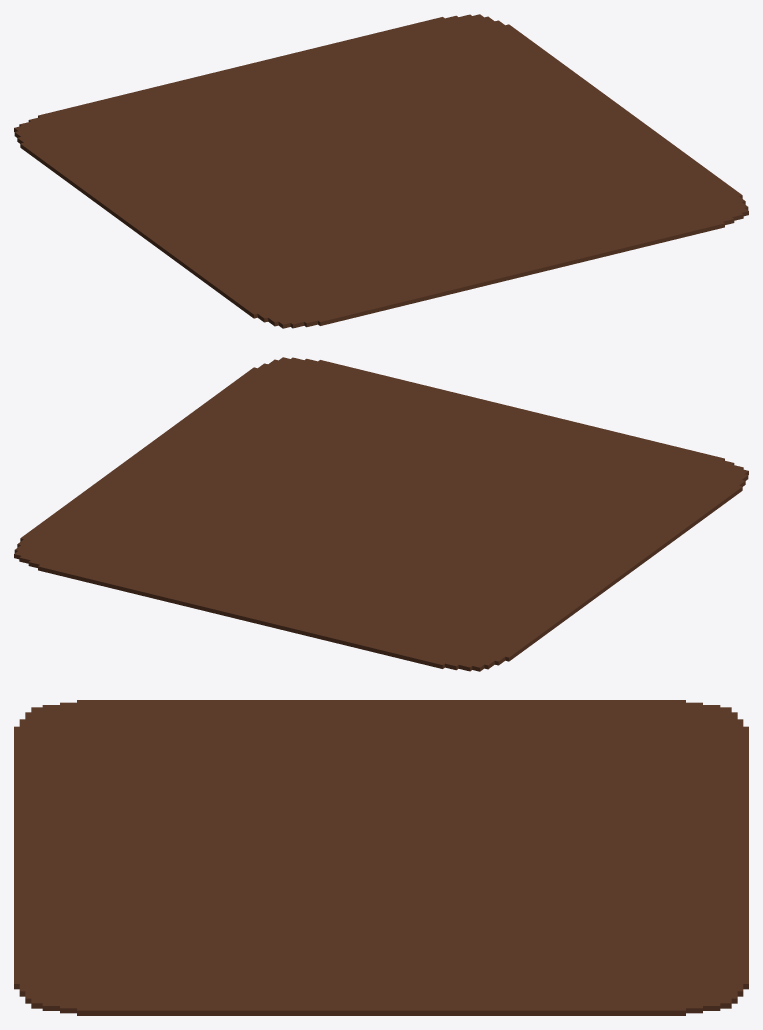
Rendered from TileBase.obj.
The picture shows the model from 3 angles, top to bottom: view 1: azimuth 30°, elevation 25°; view 2: azimuth 150°, elevation 25°; view 3: azimuth 270°, elevation 25°; orthographic projection. The views are drawn at different scales.
Bounding box in the file's own units: 12.8 × 0.1 × 12.8.
1 material, 1 textured.
